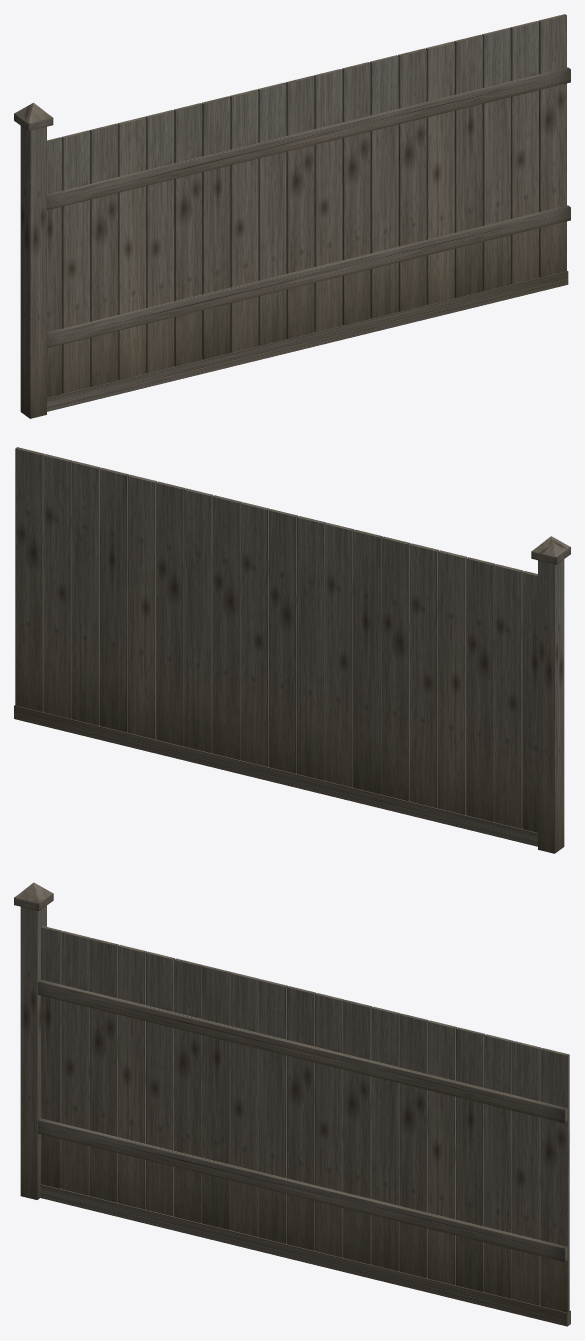
Rendered from fence-bay.glb.
3 views of the same model, one above another, from view 1: azimuth 30°, elevation 25°; view 2: azimuth 150°, elevation 25°; view 3: azimuth 330°, elevation 25° (orthographic).
Parts seen in each view (by area): view 1: Rail_1_x-192, Rail_0_x-192, Post_x-192, Kickboard, Plank_7_x-192, Plank_1_x-192, Plank_5_x-192, Plank_10_x-192, Plank_2_x-192, Plank_4_x-192, Plank_11_x-192, Plank_6_x-192 (+11 smaller); view 2: Post_x-192, Kickboard, Plank_13_x-192, Plank_16_x-192, Plank_1_x-192, Plank_5_x-192, Plank_7_x-192, Plank_12_x-192, Plank_2_x-192, Plank_6_x-192, Plank_8_x-192, Plank_10_x-192 (+9 smaller); view 3: Rail_1_x-192, Rail_0_x-192, Kickboard, Plank_18_x-192, Plank_2_x-192, Plank_5_x-192, Plank_10_x-192, Plank_11_x-192, Plank_7_x-192, Plank_13_x-192, Plank_17_x-192, Plank_1_x-192 (+11 smaller).
Part boxes in pixels (<box>): Rail_1_x-192: <box>47,67,570,209</box>; Rail_0_x-192: <box>47,205,570,347</box>; Post_x-192: <box>20,126,46,418</box>; Kickboard: <box>47,271,568,411</box>; Plank_7_x-192: <box>229,89,258,352</box>; Plank_1_x-192: <box>61,130,90,393</box>; Plank_5_x-192: <box>173,103,202,366</box>; Plank_10_x-192: <box>313,69,342,332</box>; Plank_2_x-192: <box>89,123,118,386</box>; Plank_4_x-192: <box>145,110,174,373</box>; Plank_11_x-192: <box>342,62,370,325</box>; Plank_6_x-192: <box>201,96,230,359</box>; Post_x-192: <box>538,559,564,853</box>; Kickboard: <box>14,705,537,846</box>; Plank_13_x-192: <box>156,481,185,746</box>; Plank_16_x-192: <box>71,461,100,725</box>; Plank_1_x-192: <box>494,564,523,828</box>; Plank_5_x-192: <box>381,536,410,801</box>; Plank_7_x-192: <box>325,523,354,787</box>; Plank_12_x-192: <box>184,488,213,753</box>; Plank_2_x-192: <box>466,557,495,821</box>; Plank_6_x-192: <box>353,529,382,794</box>; Plank_8_x-192: <box>297,516,326,780</box>; Plank_10_x-192: <box>240,502,269,766</box>; Rail_1_x-192: <box>38,979,567,1123</box>; Rail_0_x-192: <box>38,1118,567,1261</box>; Kickboard: <box>40,1184,570,1326</box>; Plank_18_x-192: <box>540,1048,569,1312</box>; Plank_2_x-192: <box>89,938,118,1202</box>; Plank_5_x-192: <box>174,958,203,1223</box>; Plank_10_x-192: <box>315,993,344,1257</box>; Plank_11_x-192: <box>343,1000,372,1264</box>; Plank_7_x-192: <box>230,972,259,1236</box>; Plank_13_x-192: <box>399,1013,428,1278</box>; Plank_17_x-192: <box>512,1041,541,1305</box>; Plank_1_x-192: <box>61,931,90,1195</box>.
Size of the model in its own units: 3.93 by 2.14 by 0.18.
Materials: 1 (1 with a texture image).
